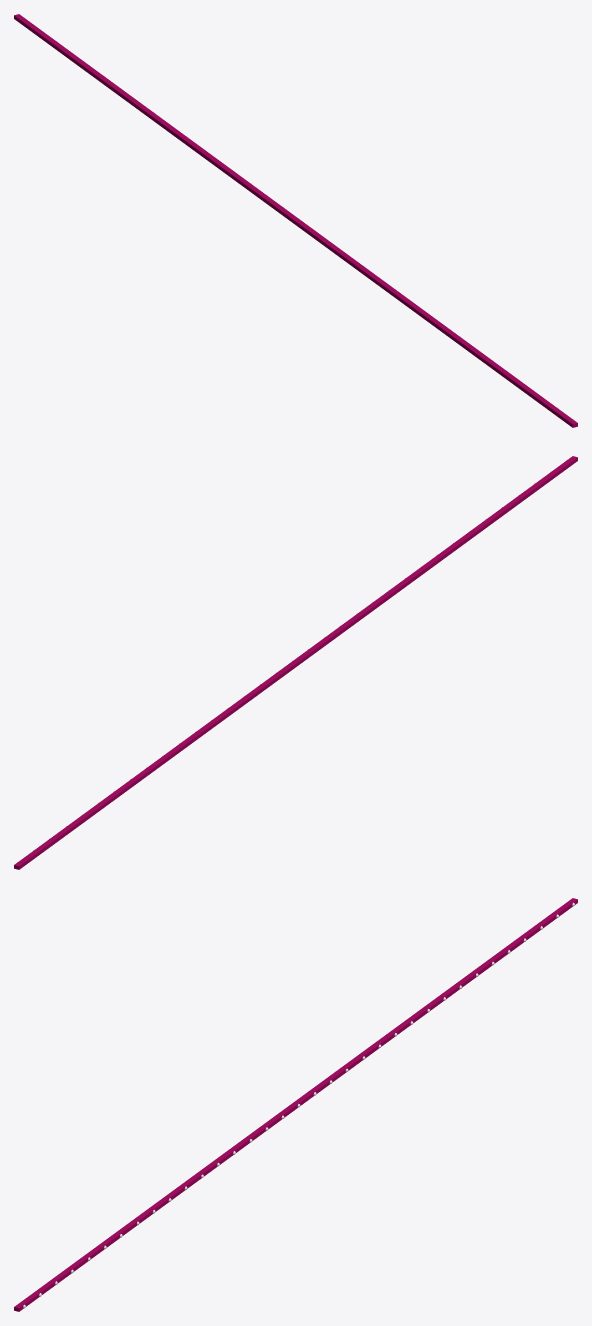
Rendered from Stick1.fbx.
The picture shows the model from 3 angles, top to bottom: view 1: azimuth 30°, elevation 25°; view 2: azimuth 150°, elevation 25°; view 3: azimuth 330°, elevation 25°; orthographic projection.
Visible parts, largest first — view 1: pCube1; view 2: pCube1; view 3: pCube1.
Boxes of the visible parts, bbox=[...] form: pCube1: bbox=[14, 14, 577, 427]; pCube1: bbox=[14, 456, 577, 869]; pCube1: bbox=[14, 898, 577, 1311].
Size of the model in its own units: 24.4 by 12.55 by 3498.
